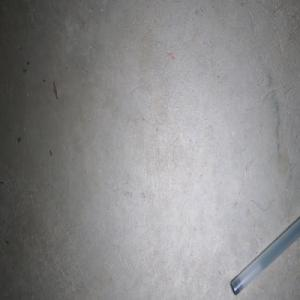Pen: (230, 217, 300, 295)
